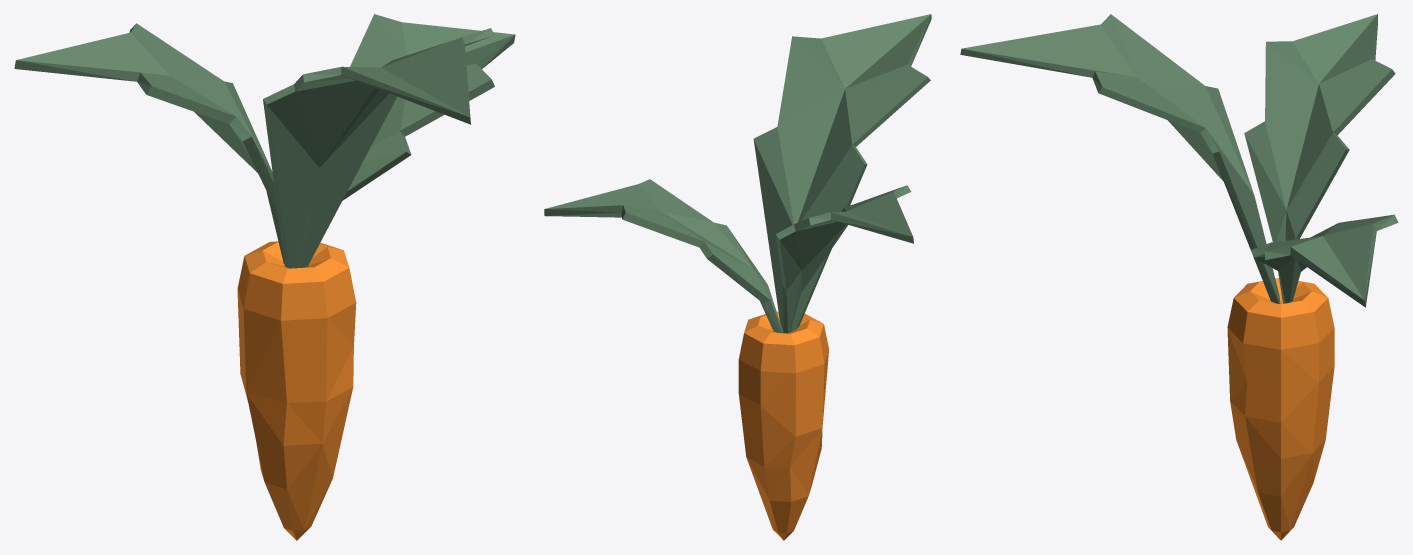
Rendered from carrot.glb.
3 renders of one model, left to right at view 1: azimuth 30°, elevation 25°; view 2: azimuth 150°, elevation 25°; view 3: azimuth 270°, elevation 25°, orthographic. The views are drawn at different scales.
Visible parts, largest first — view 1: carrot; view 2: carrot; view 3: carrot.
Boxes of the visible parts, x1,y1,x2,y2 form: carrot: [14, 14, 515, 540]; carrot: [544, 14, 931, 540]; carrot: [960, 14, 1398, 540].
Bounding box in the file's own units: 0.4373 × 0.4808 × 0.3863.
Materials: 1 (1 with a texture image).
